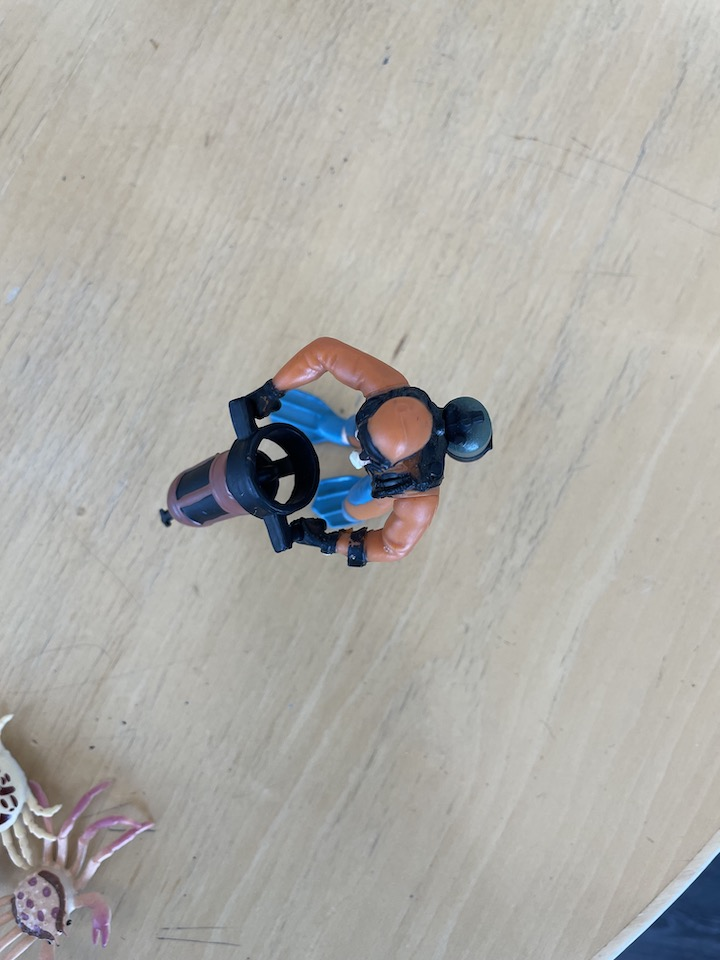crab: (1, 771, 162, 960), (1, 712, 64, 873)
diver: (155, 331, 500, 576)
